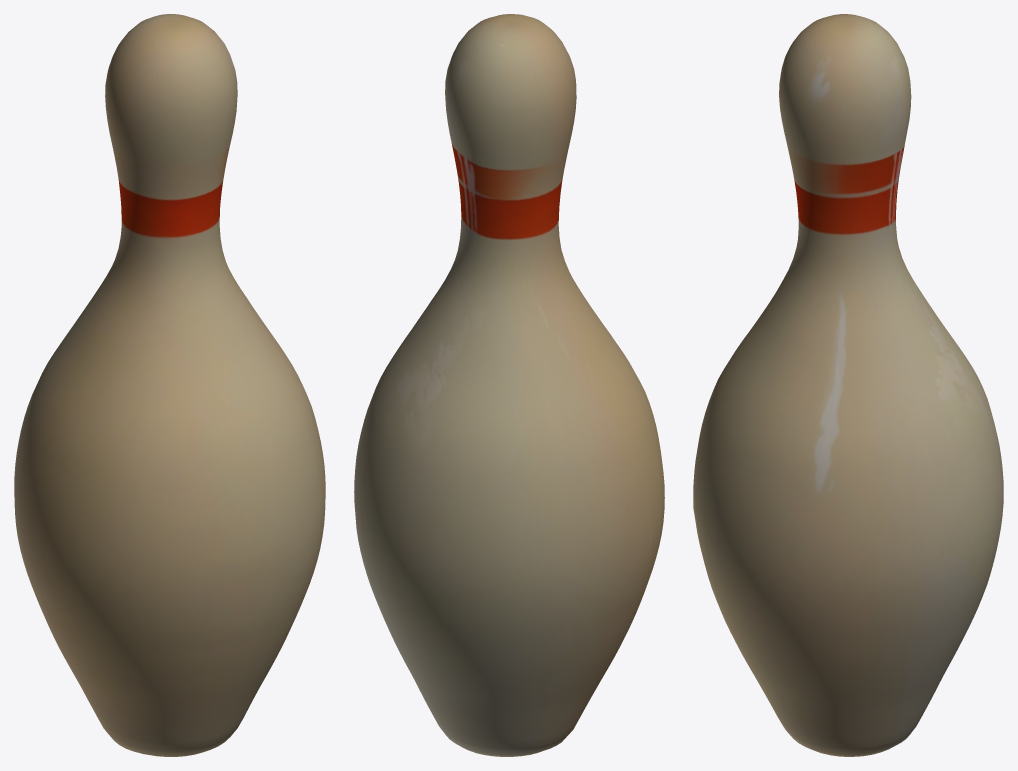
The model's file is bowling_pin.fbx.
3 views of the same model, side by side, from view 1: azimuth 30°, elevation 25°; view 2: azimuth 150°, elevation 25°; view 3: azimuth 270°, elevation 25° (orthographic).
Parts seen in each view (by area): view 1: bowling_pin; view 2: bowling_pin; view 3: bowling_pin.
Part boxes in pixels (x1,y1,x2,y2): bowling_pin: (14, 14, 325, 756); bowling_pin: (354, 14, 664, 756); bowling_pin: (693, 14, 1003, 756).
Size of the model in its own units: 24.29 by 62.18 by 24.45.
Materials: 1 (1 with a texture image).
